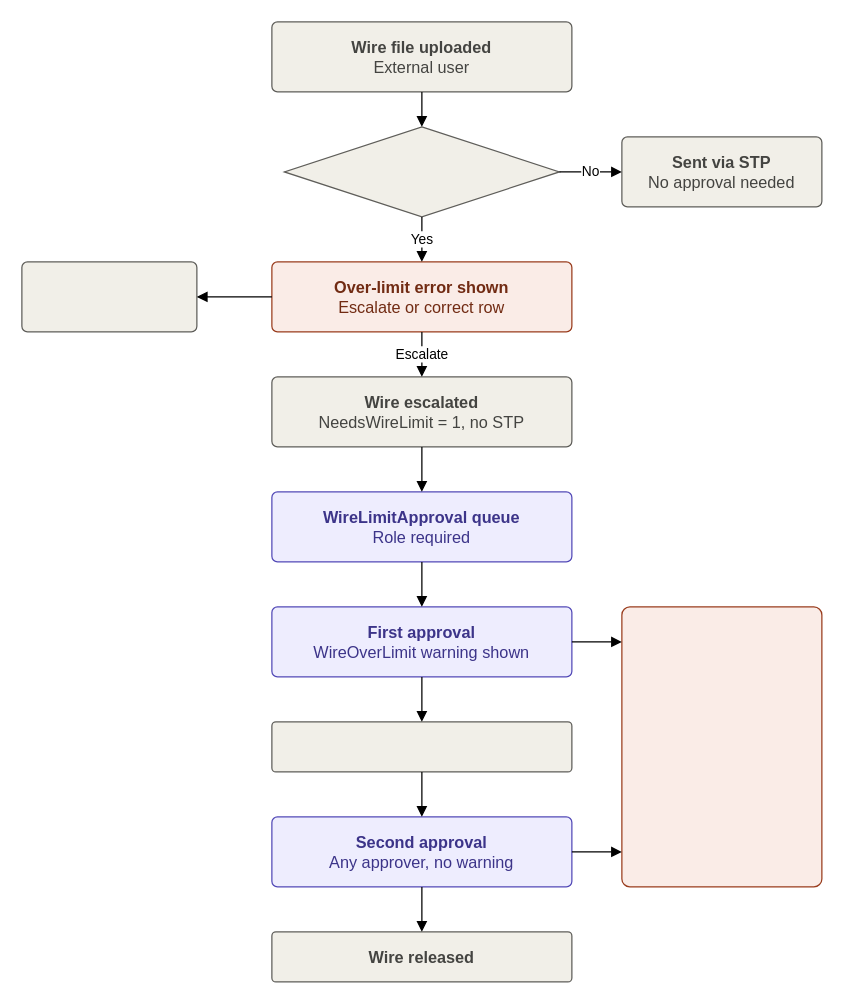
The diagram is 844 pixels wide and 1004 high, and some of its shapes have lost their labels. The centre of each missing label's shape, as x and y in pixels:
"Correct row Re-upload file" goes at point (109, 296).
"Over limit?" goes at point (421, 171).
"Reject Either approver Existing reject flow" goes at point (721, 746).
"Status: Pending Approval" goes at point (421, 746).
